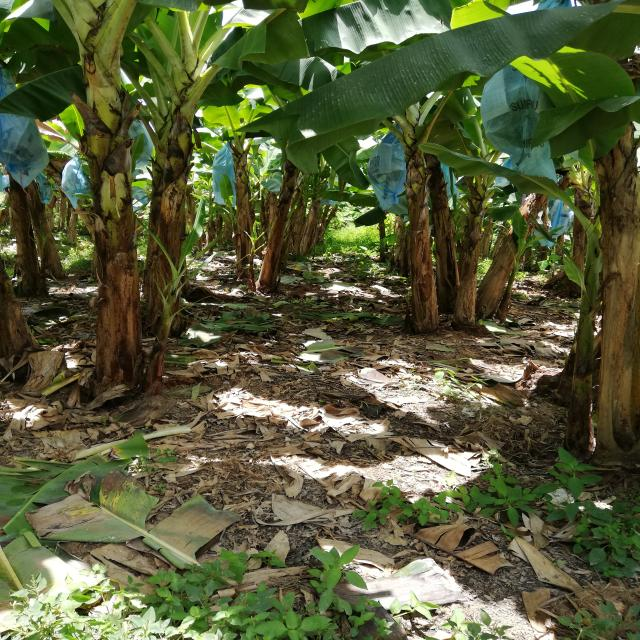Banana-plant: (65, 33, 139, 392), (575, 116, 640, 472), (132, 84, 220, 330), (388, 119, 446, 328), (450, 160, 500, 328), (221, 137, 256, 280)
